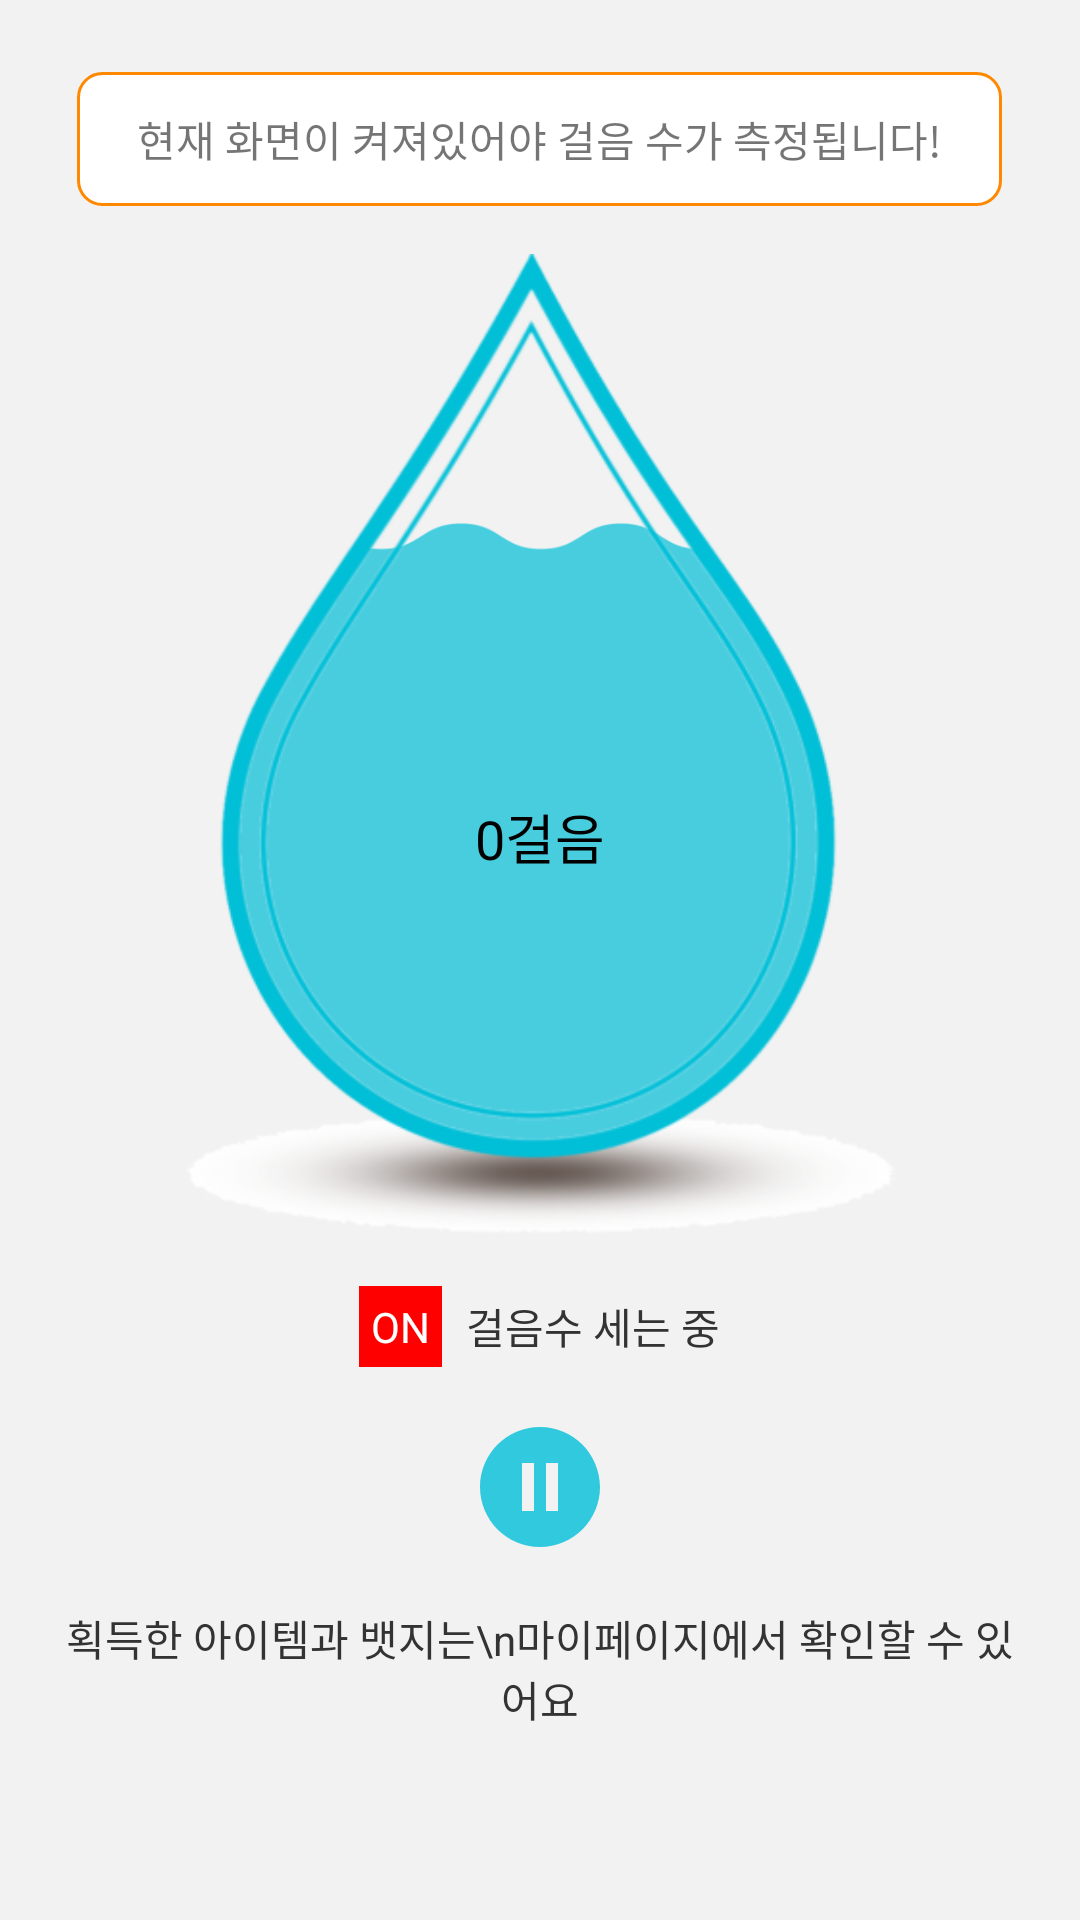

Icon click points for this 1080px x 1920px phone screenshot, format [x,y]:
pause circle: [540,1487]
